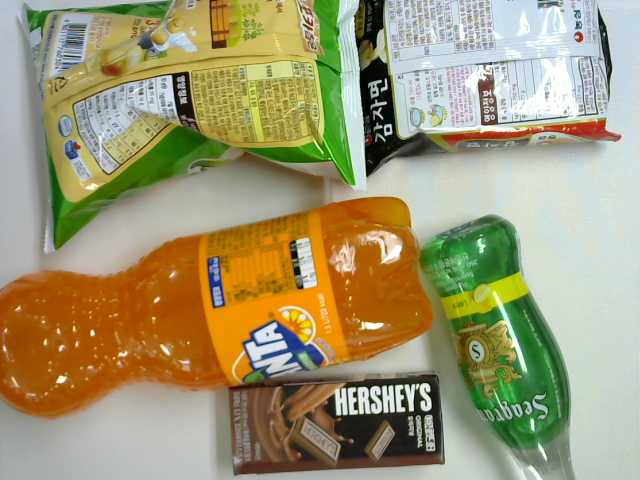Hush_Choco_Drink: (228, 368, 447, 477)
Hwanta_Orange_1.5L: (2, 194, 435, 421)
Pocachip_Onion: (14, 1, 369, 255)
Potato: (350, 1, 622, 180)
Seagram_Lemon_Carbonated_Water: (418, 210, 576, 480)
